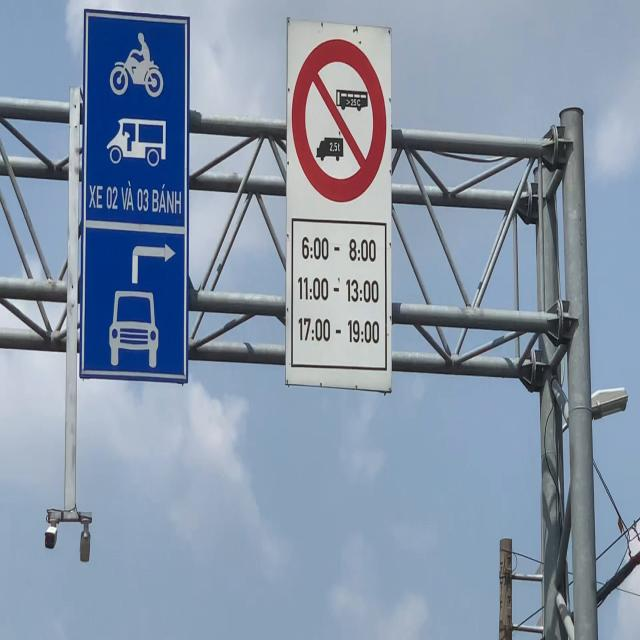Cam con lai: (290, 36, 387, 202)
